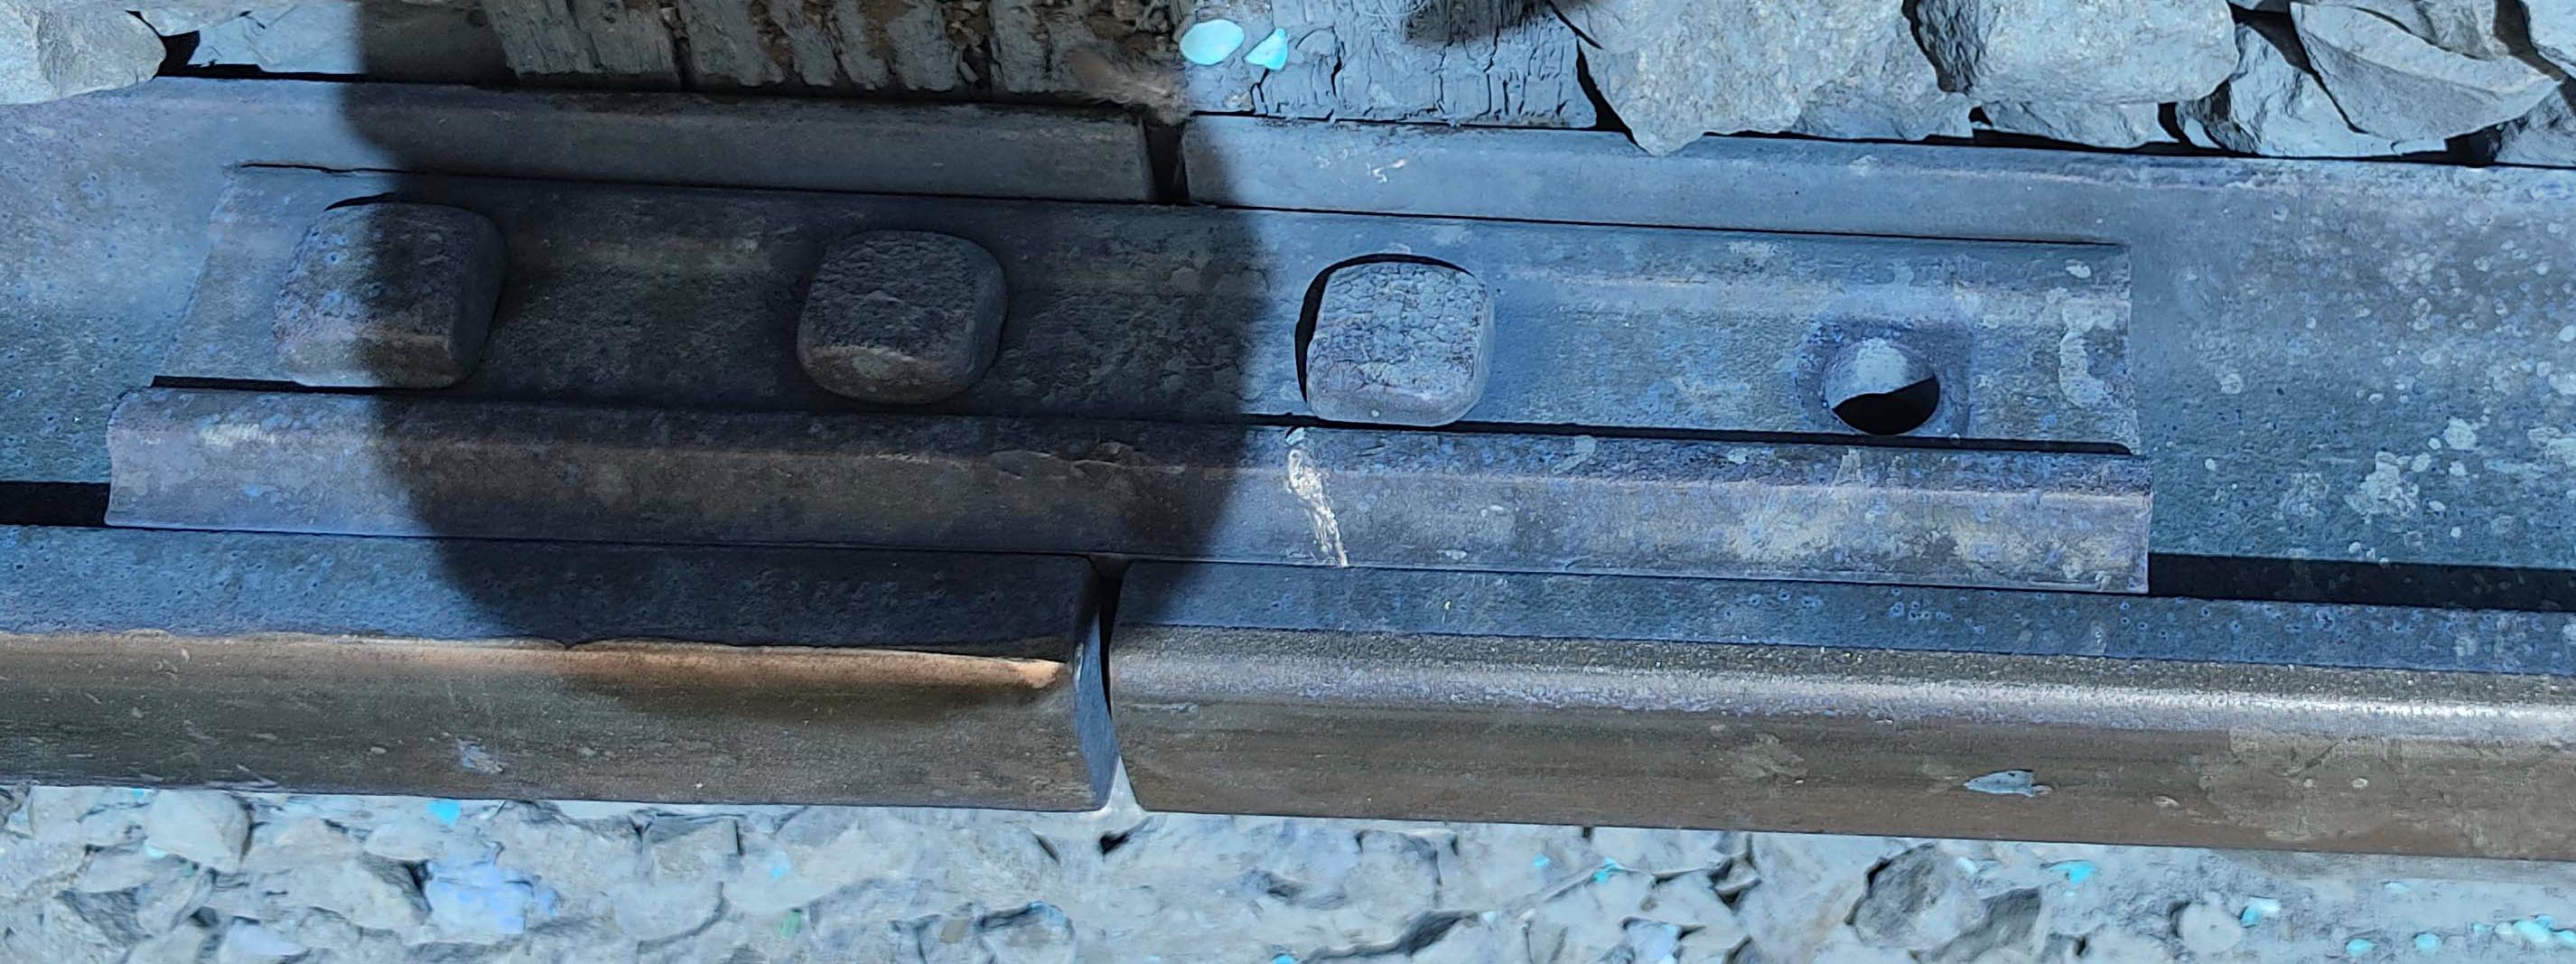error2: (956, 550, 1232, 885)
